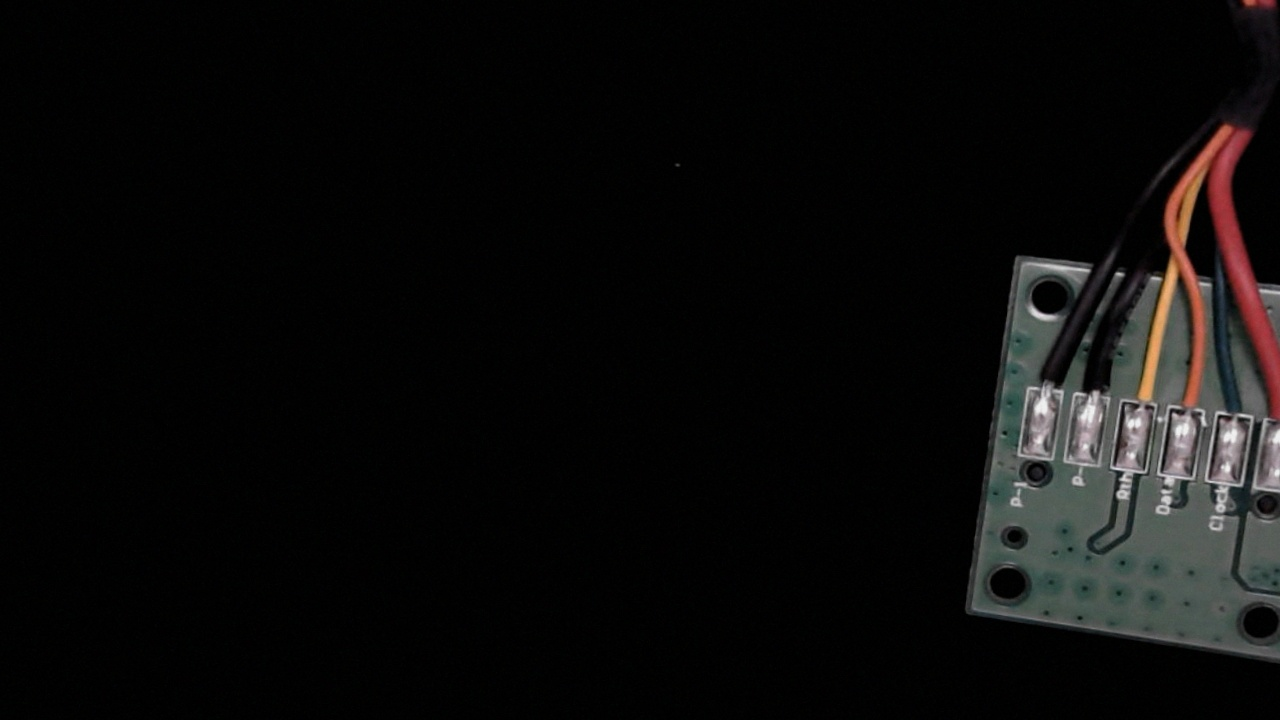Black: (1074, 340, 1122, 420)
Black1: (1020, 332, 1071, 412)
Green: (1210, 360, 1266, 440)
Orange: (1165, 347, 1218, 432)
Red: (1261, 364, 1280, 448)
Yellow: (1118, 341, 1173, 429)
